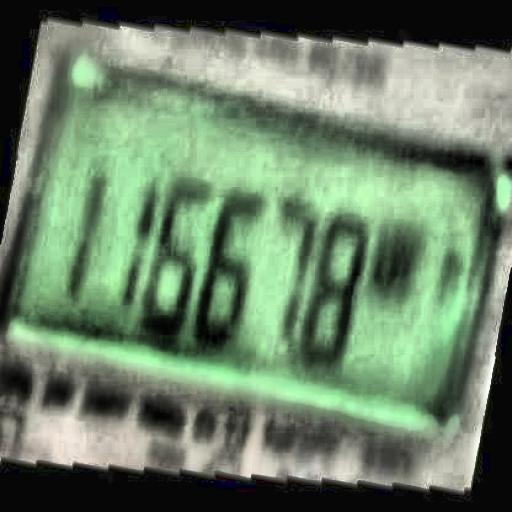SERIAL_REGION: (48, 159, 436, 391)
